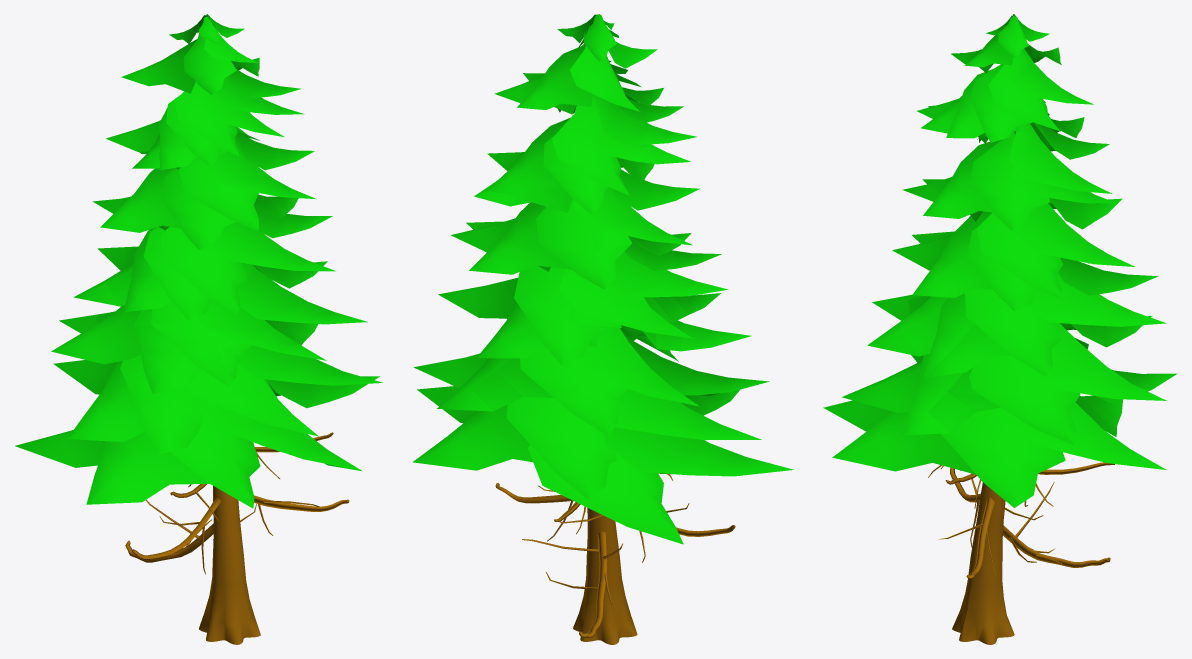
The model's file is pohon pinus 4 .glb.
3 views of the same model, side by side, from view 1: azimuth 30°, elevation 25°; view 2: azimuth 150°, elevation 25°; view 3: azimuth 270°, elevation 25° (orthographic). The views are drawn at different scales.
Parts seen in each view (by area): view 1: Pine_4; view 2: Pine_4; view 3: Pine_4.
Part boxes in pixels (bbox=[...]): Pine_4: bbox=[15, 14, 382, 644]; Pine_4: bbox=[413, 14, 793, 644]; Pine_4: bbox=[823, 14, 1177, 644].
Bounding box in the file's own units: 5.8 × 10.24 × 5.37.
